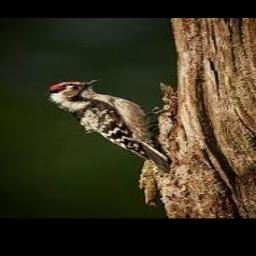Woodpecker: (46, 78, 169, 171)
